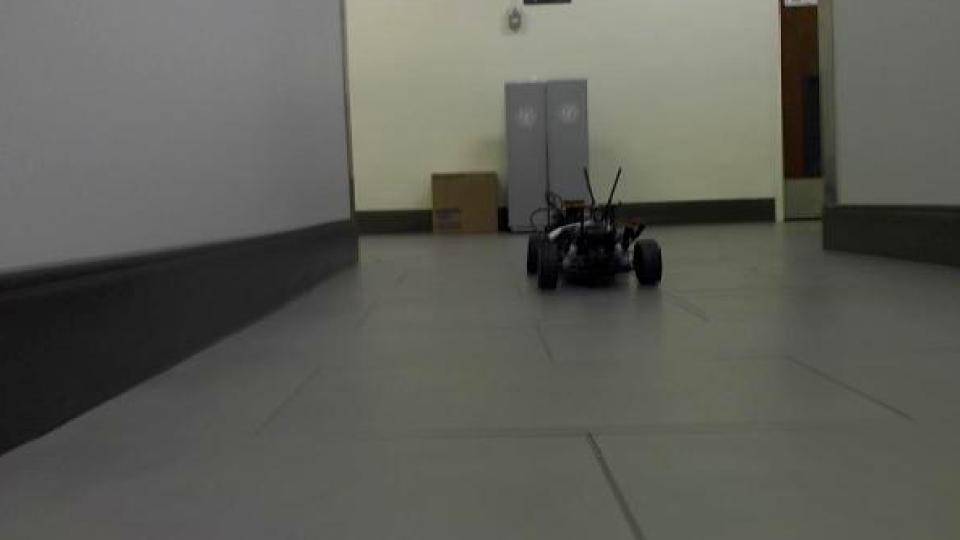car: (520, 163, 665, 294)
